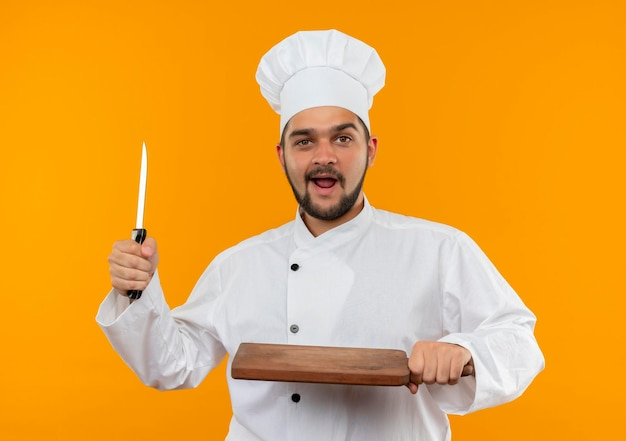knife: (130, 141, 148, 242)
